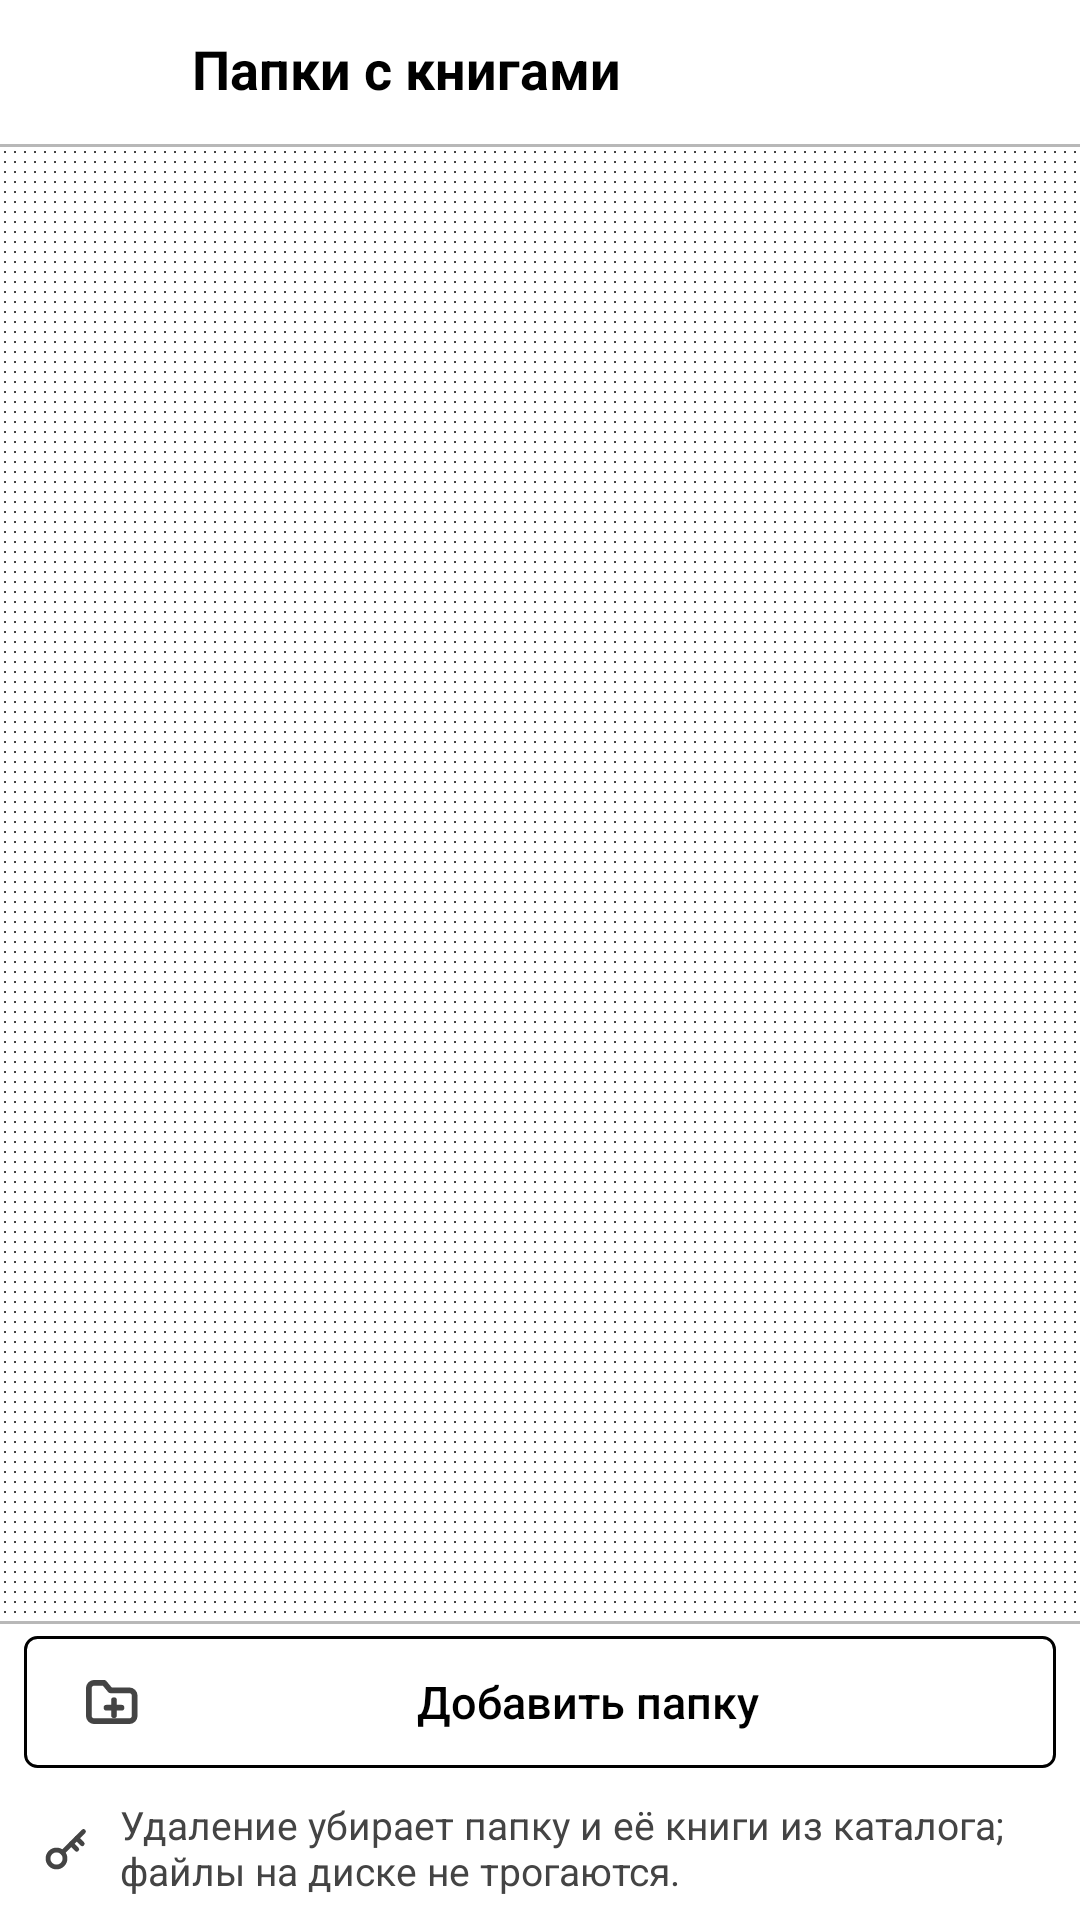

Icon click points for this 1080px x 1920px phone screenshot, format (x=x, y=y):
key: (x=65, y=1849)
